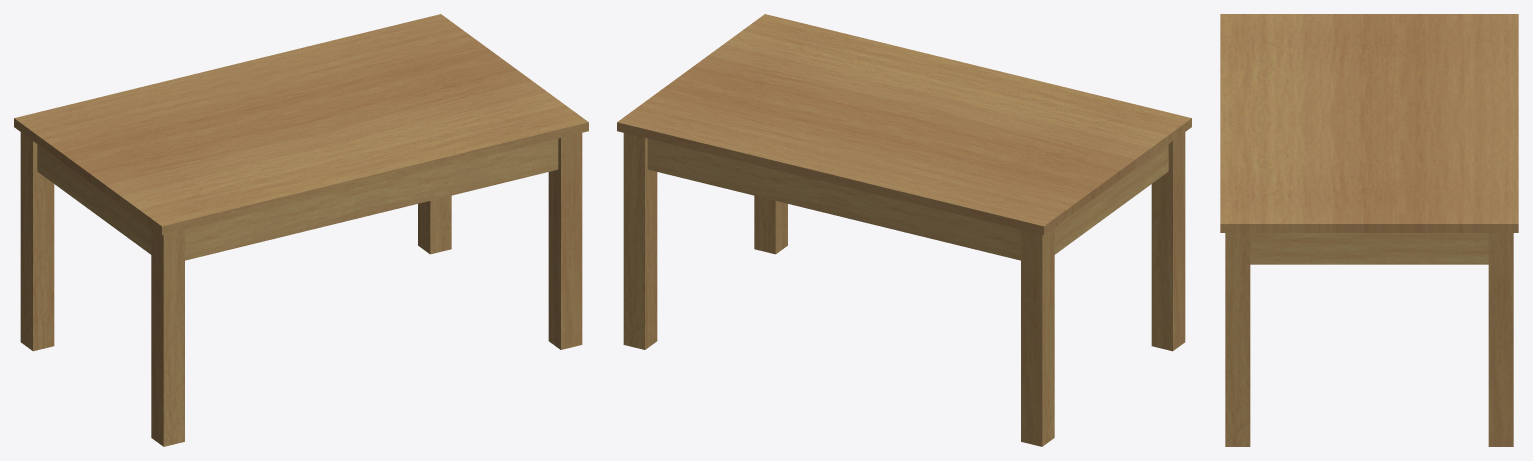
The model's file is table.fbx.
3 renders of one model, left to right at view 1: azimuth 30°, elevation 25°; view 2: azimuth 150°, elevation 25°; view 3: azimuth 270°, elevation 25°, orthographic.
Parts seen in each view (by area): view 1: tableA; view 2: tableA; view 3: tableA.
Part boxes in pixels (left/top/right/bottom): tableA: left=14, top=14, right=588, bottom=446; tableA: left=617, top=14, right=1191, bottom=446; tableA: left=1220, top=14, right=1518, bottom=446.
Bounding box in the file's own units: 10 × 5 × 6.
1 material, 1 textured.
